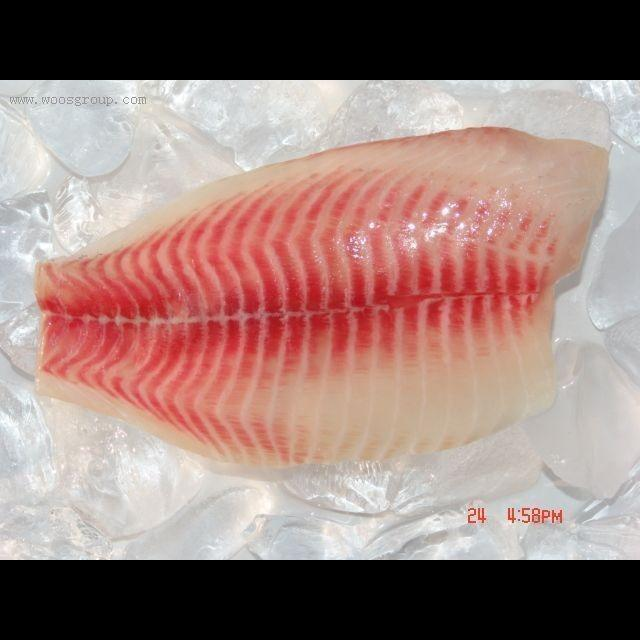fish: (20, 117, 640, 487)
